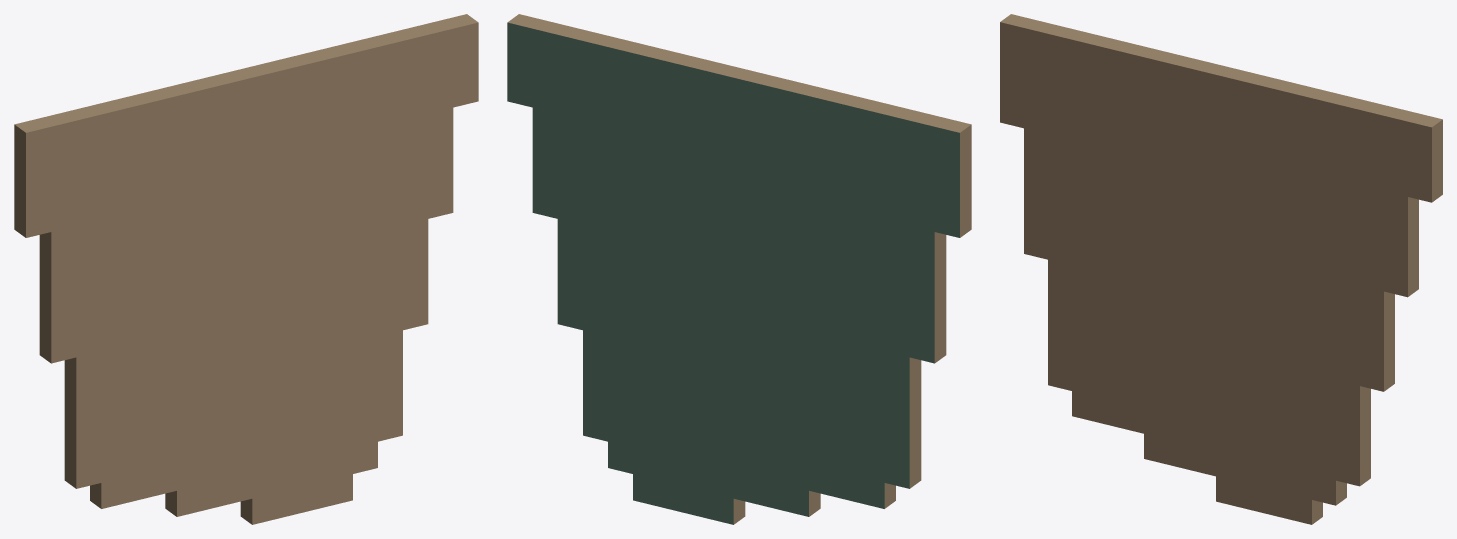
File: SM_BarrierSign_2.fbx
3 renders of one model, left to right at view 1: azimuth 30°, elevation 25°; view 2: azimuth 150°, elevation 25°; view 3: azimuth 330°, elevation 25°, orthographic. The views are drawn at different scales.
Visible parts, largest first — view 1: SM_BarrierSign_2; view 2: SM_BarrierSign_2; view 3: SM_BarrierSign_2.
Part boxes in pixels (x1=…): SM_BarrierSign_2: x1=14, y1=14, x2=478, y2=524; SM_BarrierSign_2: x1=507, y1=14, x2=971, y2=524; SM_BarrierSign_2: x1=1000, y1=14, x2=1442, y2=524.
Size of the model in its own units: 45 by 2 by 42.5.
